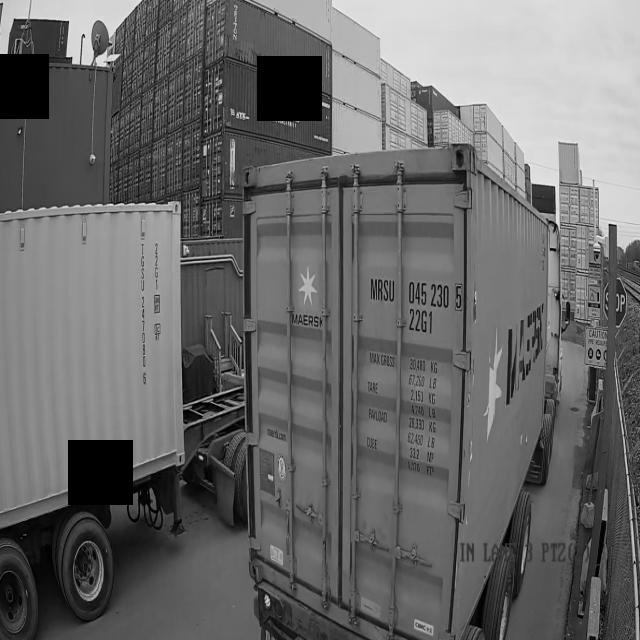container_company_logo: (291, 257, 323, 327)
container_number: (367, 273, 460, 335)
container_side_no: (138, 234, 151, 380)
other_container_info: (368, 350, 451, 478)
truck_with_container: (245, 144, 569, 640), (0, 203, 245, 640)
